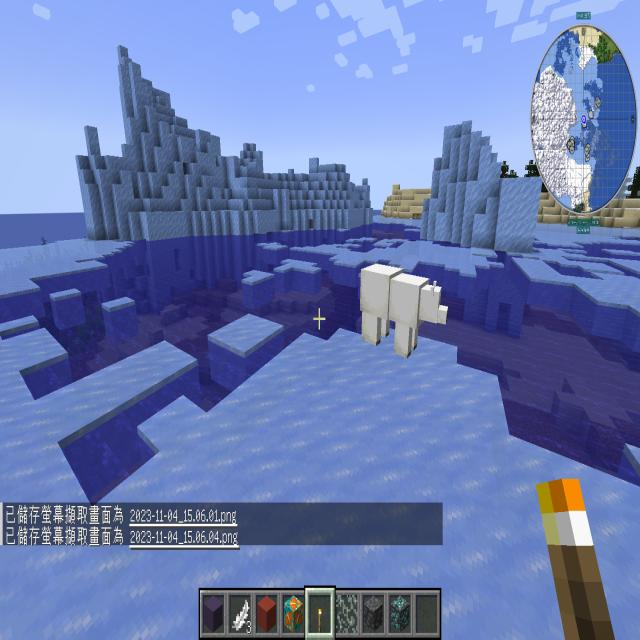Polar Bear: (356, 253, 452, 371)
